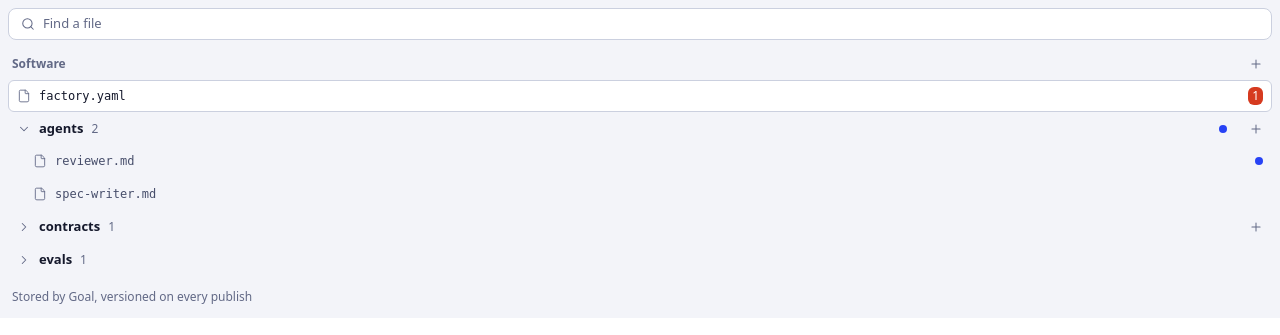
Test case: FileTree › opens and closes a folder, with its file count
Click the button named "agents, 2 files" at (61,128), box [8,113,1236,145]
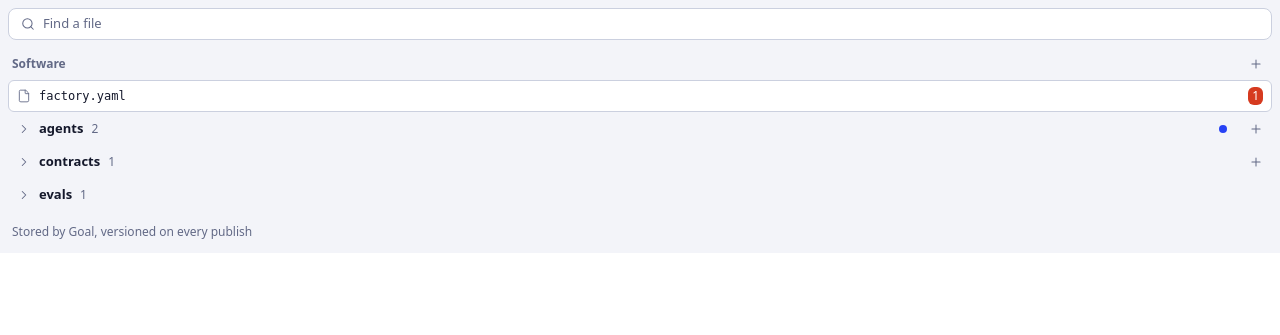
Expected: the button "reviewer.md" is gone
